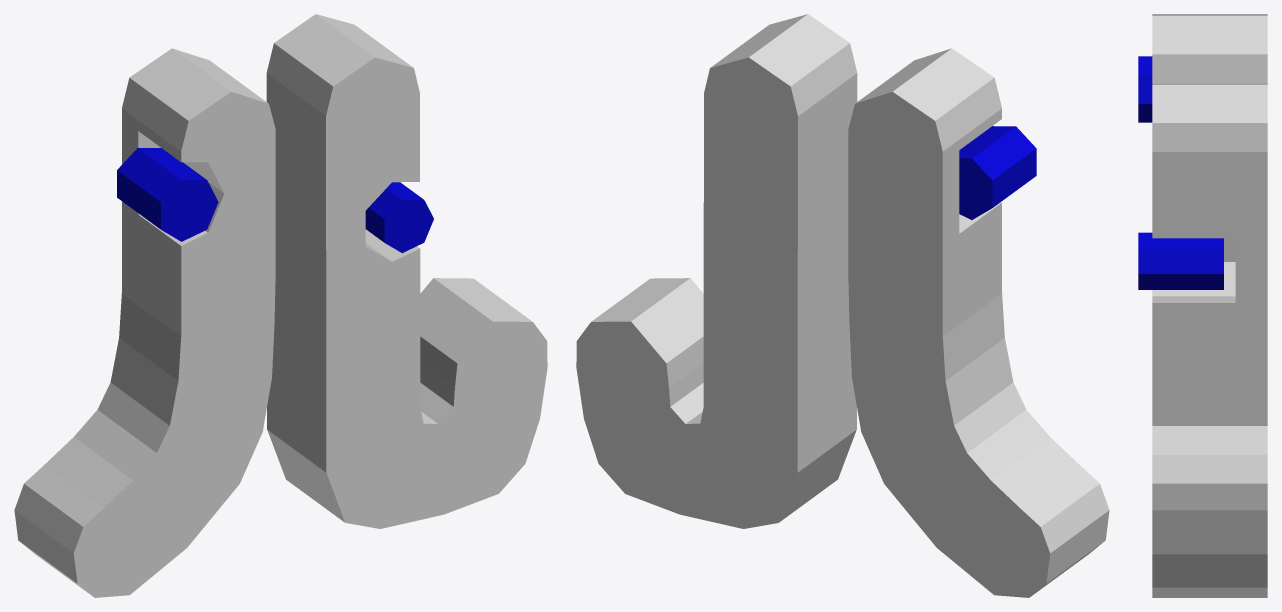
Rendered from Ch_Lite_China_儿_01.fbx.
3 views of the same model, side by side, from view 1: azimuth 30°, elevation 25°; view 2: azimuth 150°, elevation 25°; view 3: azimuth 270°, elevation 25° (orthographic). The views are drawn at different scales.
Parts seen in each view (by area): view 1: sphere1; view 2: sphere1; view 3: sphere1.
Part boxes in pixels (box(x1,y1,x2,y2)): sphere1: box(14, 14, 547, 597); sphere1: box(576, 14, 1109, 597); sphere1: box(1138, 14, 1267, 597).
Bounding box in the file's own units: 0.9219 × 0.8901 × 0.2242.
